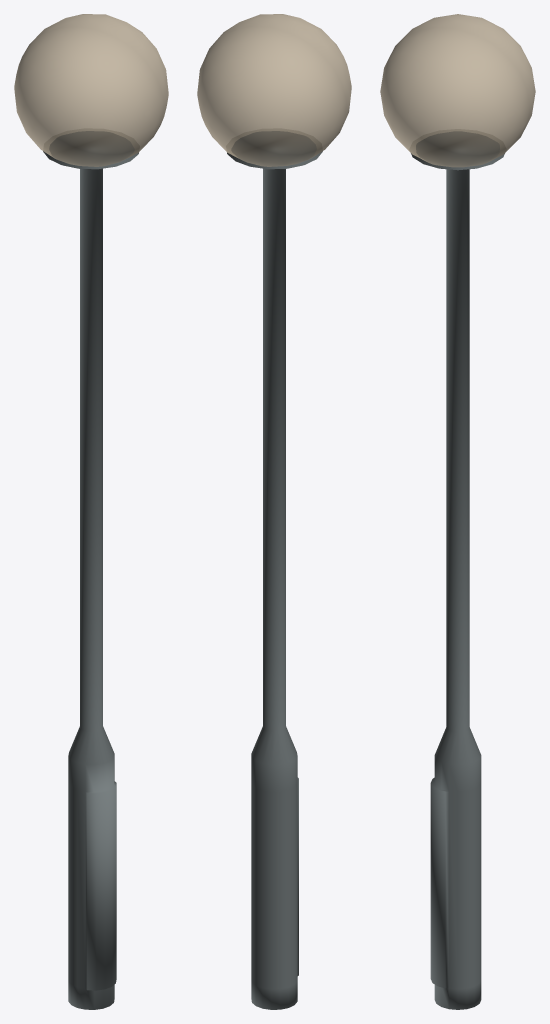
The model's file is street light.glb.
3 views of the same model, side by side, from view 1: azimuth 30°, elevation 25°; view 2: azimuth 150°, elevation 25°; view 3: azimuth 270°, elevation 25° (orthographic).
Parts seen in each view (by area): view 1: Cylinder, Icosphere; view 2: Cylinder, Icosphere; view 3: Cylinder, Icosphere.
Boxes of the visible parts, box(x1,y1,x2,y2) form: Cylinder: box(43, 131, 138, 1009); Icosphere: box(14, 14, 168, 166); Cylinder: box(227, 131, 322, 1009); Icosphere: box(197, 14, 351, 166); Cylinder: box(411, 131, 504, 1009); Icosphere: box(380, 14, 535, 167).
Bounding box in the file's own units: 2 × 13.9 × 2.
